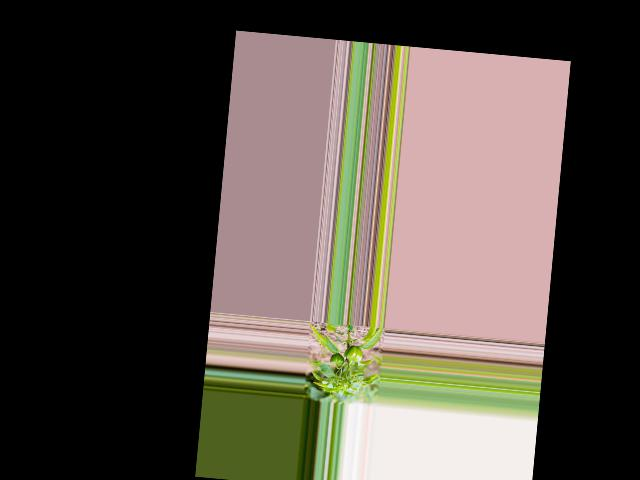bell_pepper: (329, 351, 344, 367)
